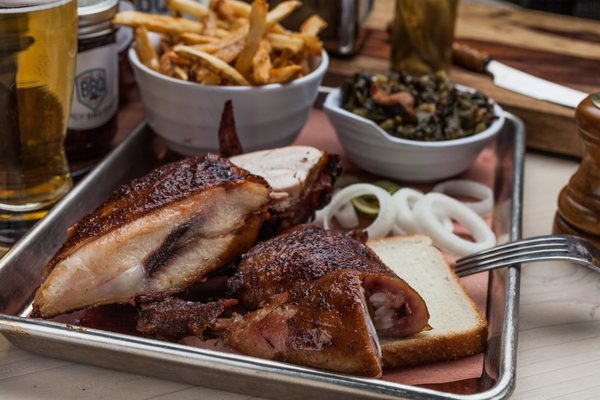soup: (31, 152, 273, 317), (228, 144, 342, 238)
sushi: (125, 3, 330, 156), (321, 68, 505, 183)
